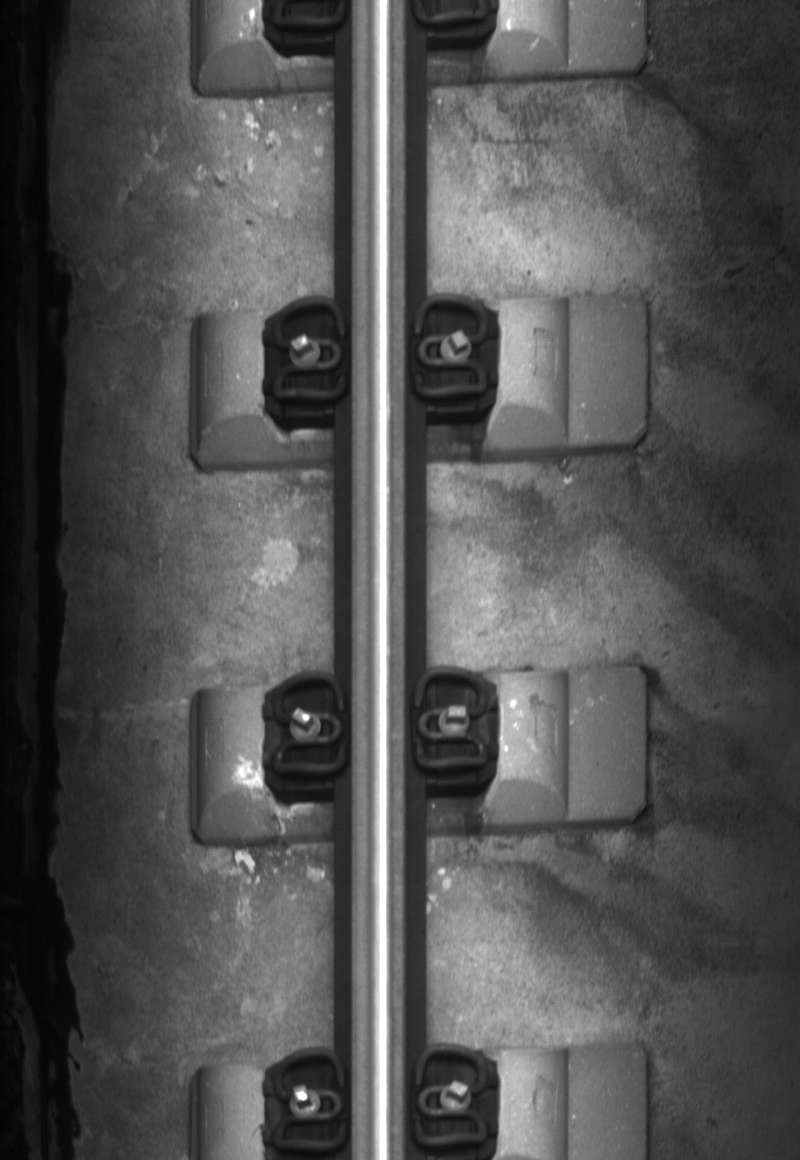l_faster: (263, 294, 352, 408), (267, 1044, 351, 1155), (267, 667, 350, 778)
r_faster: (408, 1039, 493, 1153), (409, 662, 492, 776), (409, 293, 493, 404)
